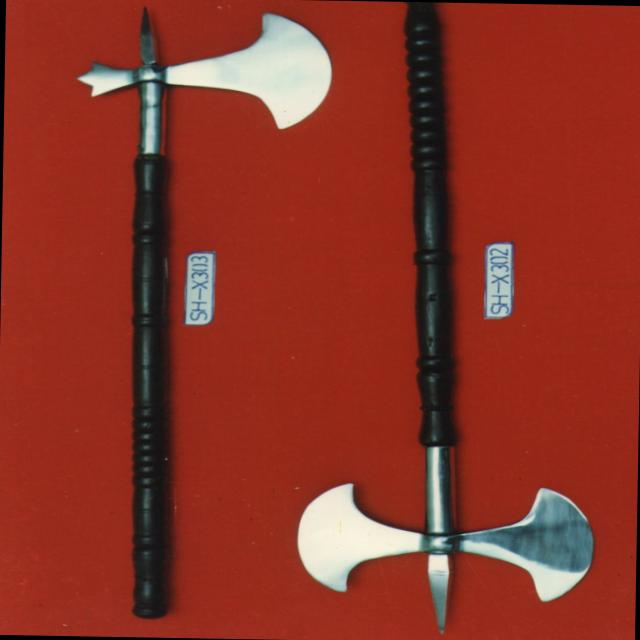Gun: (253, 0, 640, 640), (72, 0, 330, 632)
